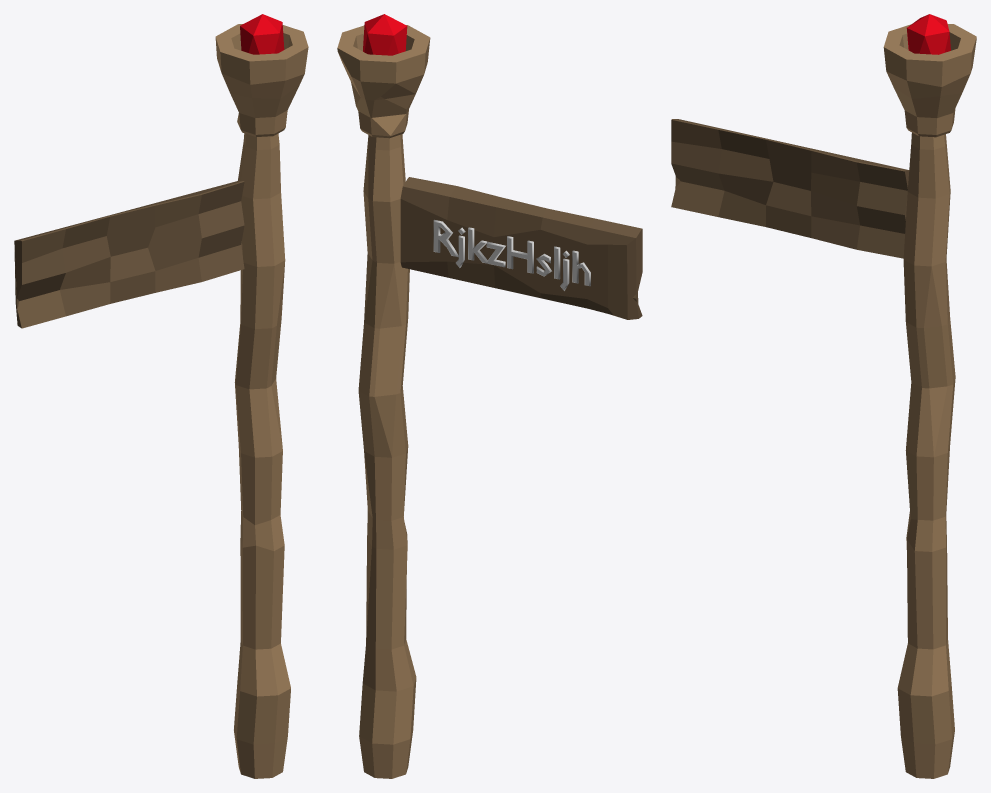
Rendered from Sign_Text.fbx.
3 renders of one model, left to right at view 1: azimuth 30°, elevation 25°; view 2: azimuth 150°, elevation 25°; view 3: azimuth 330°, elevation 25°, orthographic.
Parts seen in each view (by area): view 1: Cylinder.079, Plane.068, Cylinder.082, Icosphere.014; view 2: Cylinder.079, Plane.068, Cylinder.082, Text, Icosphere.014; view 3: Cylinder.079, Plane.068, Cylinder.082, Icosphere.014.
Boxes of the visible parts, left/top/right/bottom form: Cylinder.079: left=234, top=133, right=290, bottom=778; Plane.068: left=14, top=181, right=244, bottom=328; Cylinder.082: left=215, top=24, right=308, bottom=136; Icosphere.014: left=240, top=14, right=284, bottom=54; Cylinder.079: left=358, top=134, right=416, bottom=778; Plane.068: left=400, top=177, right=642, bottom=319; Cylinder.082: left=337, top=25, right=430, bottom=138; Text: left=433, top=219, right=590, bottom=290; Icosphere.014: left=363, top=14, right=407, bottom=55; Cylinder.079: left=897, top=132, right=955, bottom=778; Plane.068: left=671, top=119, right=909, bottom=258; Cylinder.082: left=883, top=24, right=976, bottom=137; Icosphere.014: left=906, top=14, right=950, bottom=54.
Bounding box in the file's own units: 700 × 1731 × 200.
